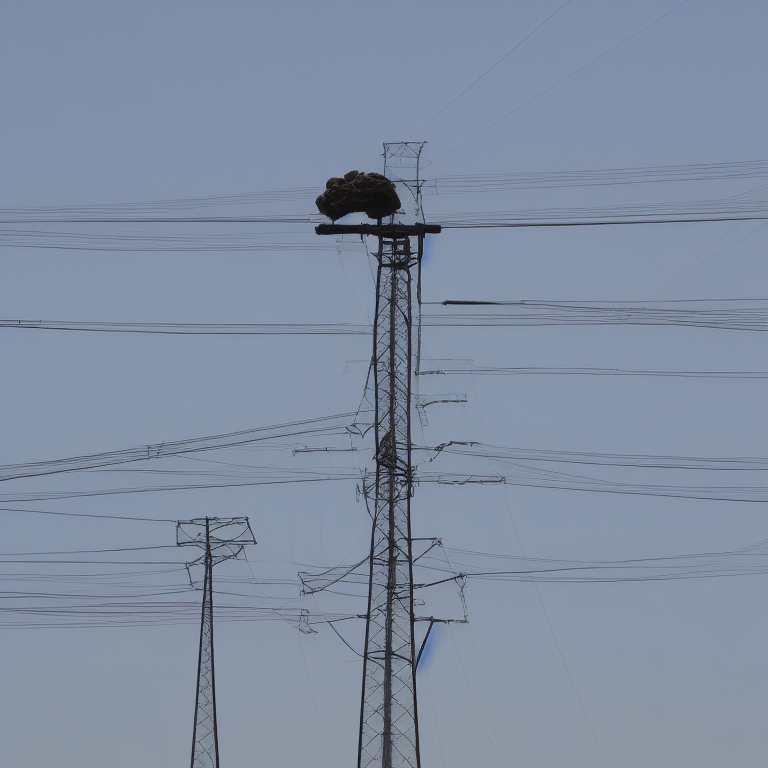nest: (321, 175, 401, 218)
